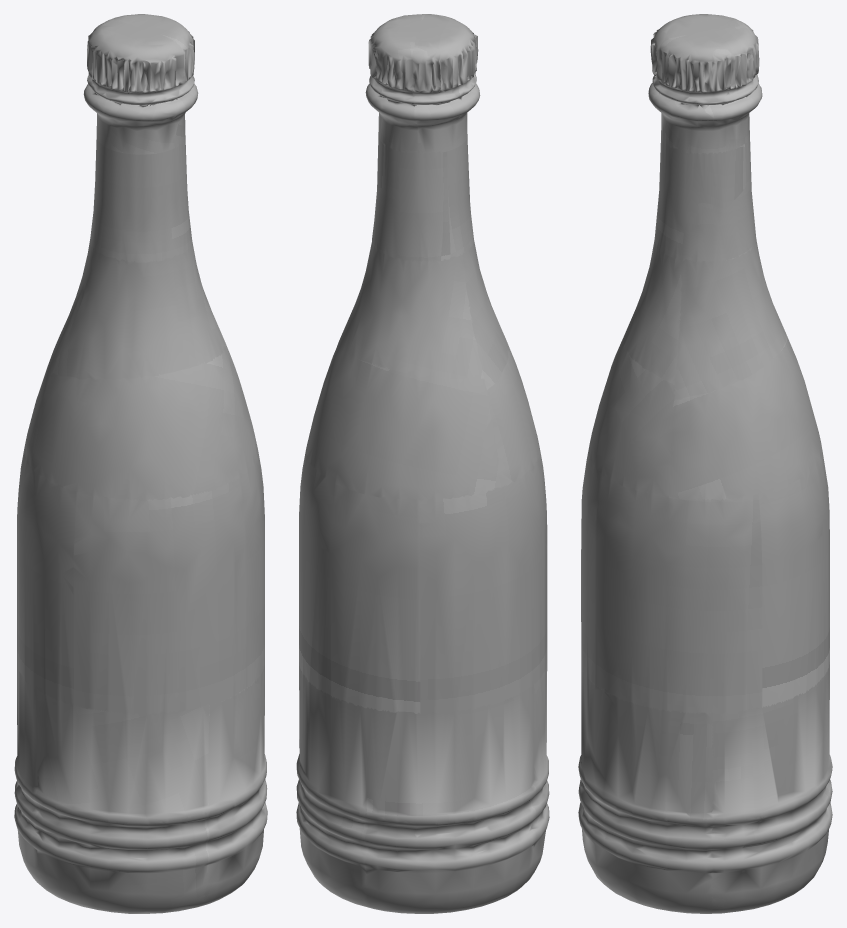
The model's file is bot-alta.glb.
3 views of the same model, side by side, from view 1: azimuth 30°, elevation 25°; view 2: azimuth 150°, elevation 25°; view 3: azimuth 270°, elevation 25° (orthographic).
Visible parts, largest first — view 1: tripo_node_86df2acd-d289-4e0c-a94b-665d851727bb; view 2: tripo_node_86df2acd-d289-4e0c-a94b-665d851727bb; view 3: tripo_node_86df2acd-d289-4e0c-a94b-665d851727bb.
Part boxes in pixels (x1,y1,x2,y2): tripo_node_86df2acd-d289-4e0c-a94b-665d851727bb: (14, 14, 267, 913); tripo_node_86df2acd-d289-4e0c-a94b-665d851727bb: (296, 14, 549, 913); tripo_node_86df2acd-d289-4e0c-a94b-665d851727bb: (578, 14, 832, 913).
Bounding box in the file's own units: 0.2739 × 1 × 0.2739.
Materials: 1 (1 with a texture image).
